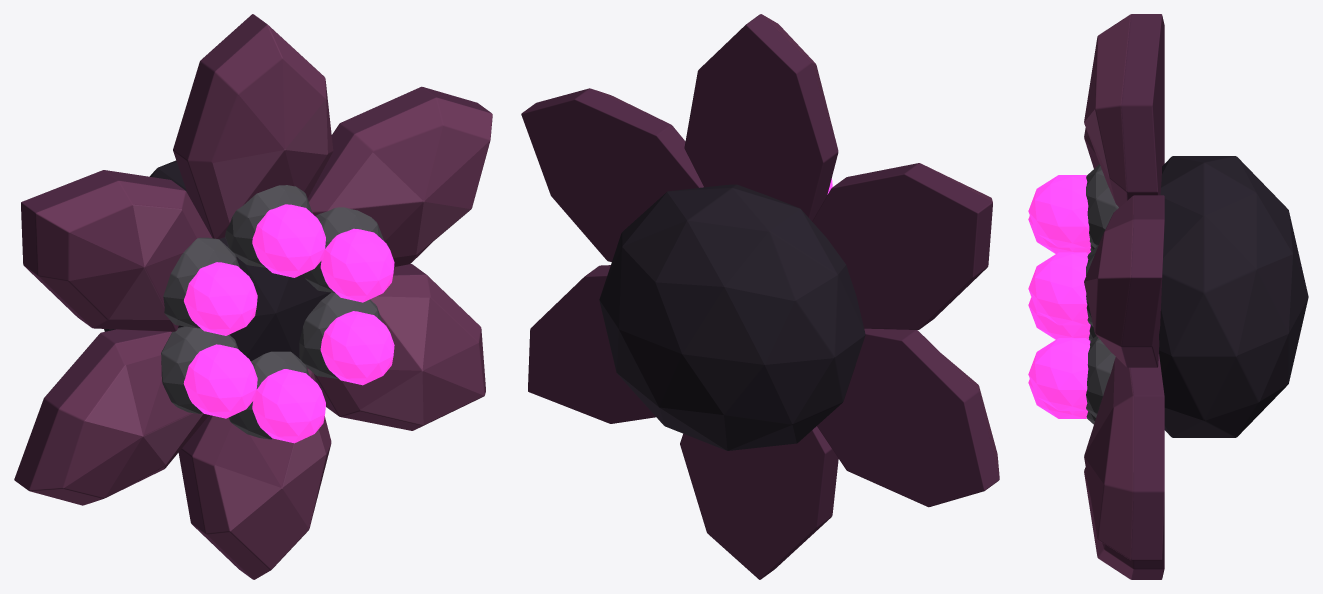
The model's file is Grenadier.fbx.
3 views of the same model, side by side, from view 1: azimuth 30°, elevation 25°; view 2: azimuth 150°, elevation 25°; view 3: azimuth 270°, elevation 25° (orthographic). The views are drawn at different scales.
Parts seen in each view (by area): view 1: Armor 2, Armor 4, Armor 5, Armor 3, Armor 1; view 2: Armor 1, Armor 2, Armor 4, Armor 5, Armor 3; view 3: Armor 1, Armor 4, Armor 2, Armor 3, Armor 5.
Part boxes in pixels (x1,y1,x2,y2): Armor 2: [21, 14, 333, 335]; Armor 4: [178, 264, 485, 579]; Armor 5: [14, 326, 325, 505]; Armor 3: [303, 86, 492, 302]; Armor 1: [104, 160, 330, 361]; Armor 1: [599, 184, 865, 450]; Armor 2: [684, 14, 992, 329]; Armor 4: [528, 265, 838, 579]; Armor 5: [817, 328, 999, 507]; Armor 3: [521, 88, 703, 261]; Armor 1: [1159, 156, 1308, 437]; Armor 4: [1028, 336, 1164, 579]; Armor 2: [1028, 14, 1164, 253]; Armor 3: [1028, 195, 1164, 367]; Armor 5: [1028, 297, 1096, 424].
Size of the model in its own units: 0.1141 by 0.1298 by 0.0576.
